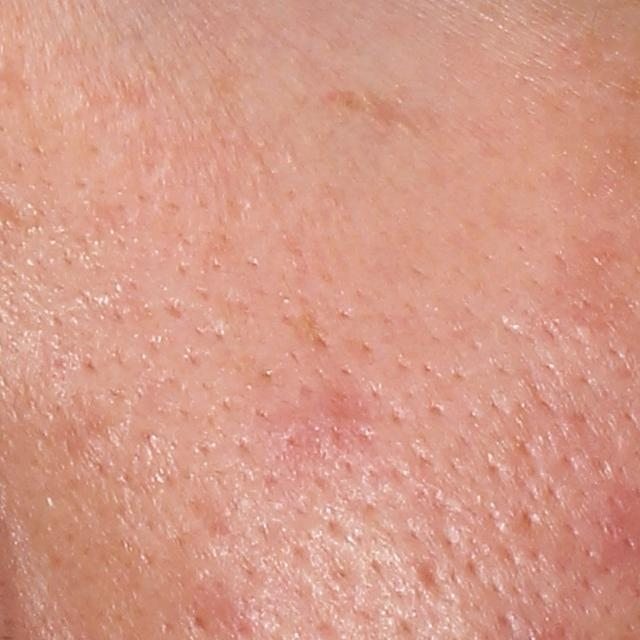atrophic_scar: (412, 557, 451, 603)
melasma: (320, 85, 424, 138), (279, 298, 325, 350)
